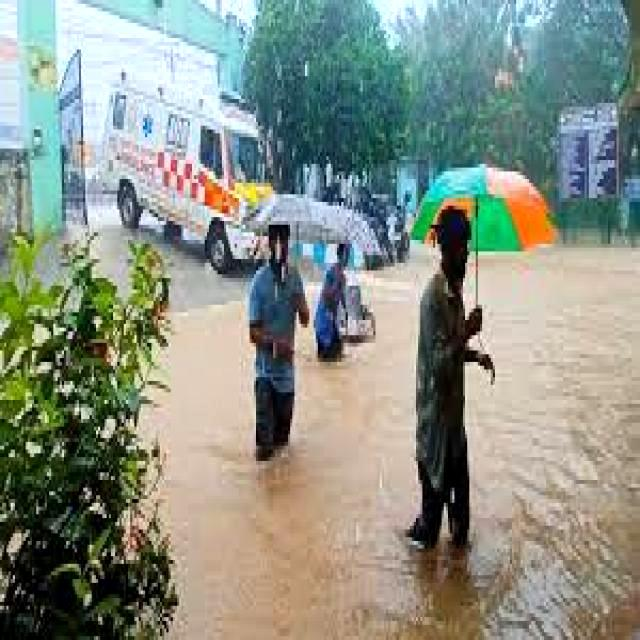civilian: (384, 200, 504, 557), (224, 223, 314, 460), (314, 242, 364, 371)
